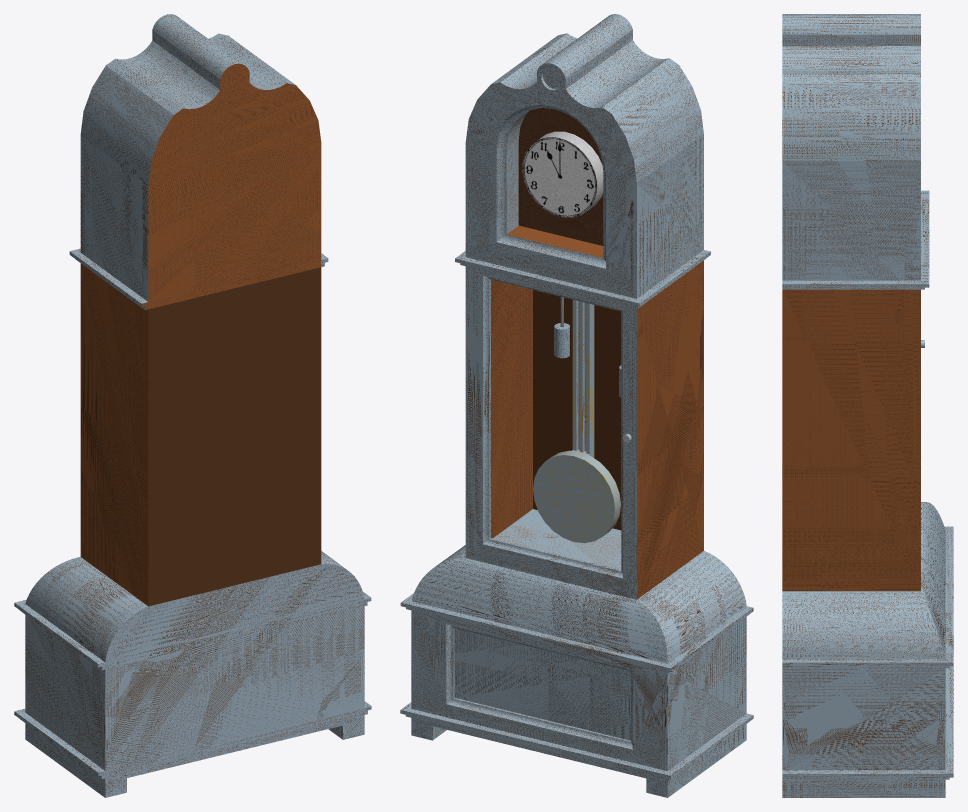
The model's file is reloj2.fbx.
3 renders of one model, left to right at view 1: azimuth 30°, elevation 25°; view 2: azimuth 150°, elevation 25°; view 3: azimuth 270°, elevation 25°, orthographic. The views are drawn at different scales.
Visible parts, largest first — view 1: Model; view 2: Model, Group1; view 3: Model.
Boxes of the visible parts, bbox=[...] form: Model: bbox=[14, 14, 371, 797]; Model: bbox=[400, 14, 753, 797]; Group1: bbox=[533, 297, 621, 543]; Model: bbox=[782, 14, 953, 797].
Bounding box in the file's own units: 0.79 × 1.94 × 0.42.
